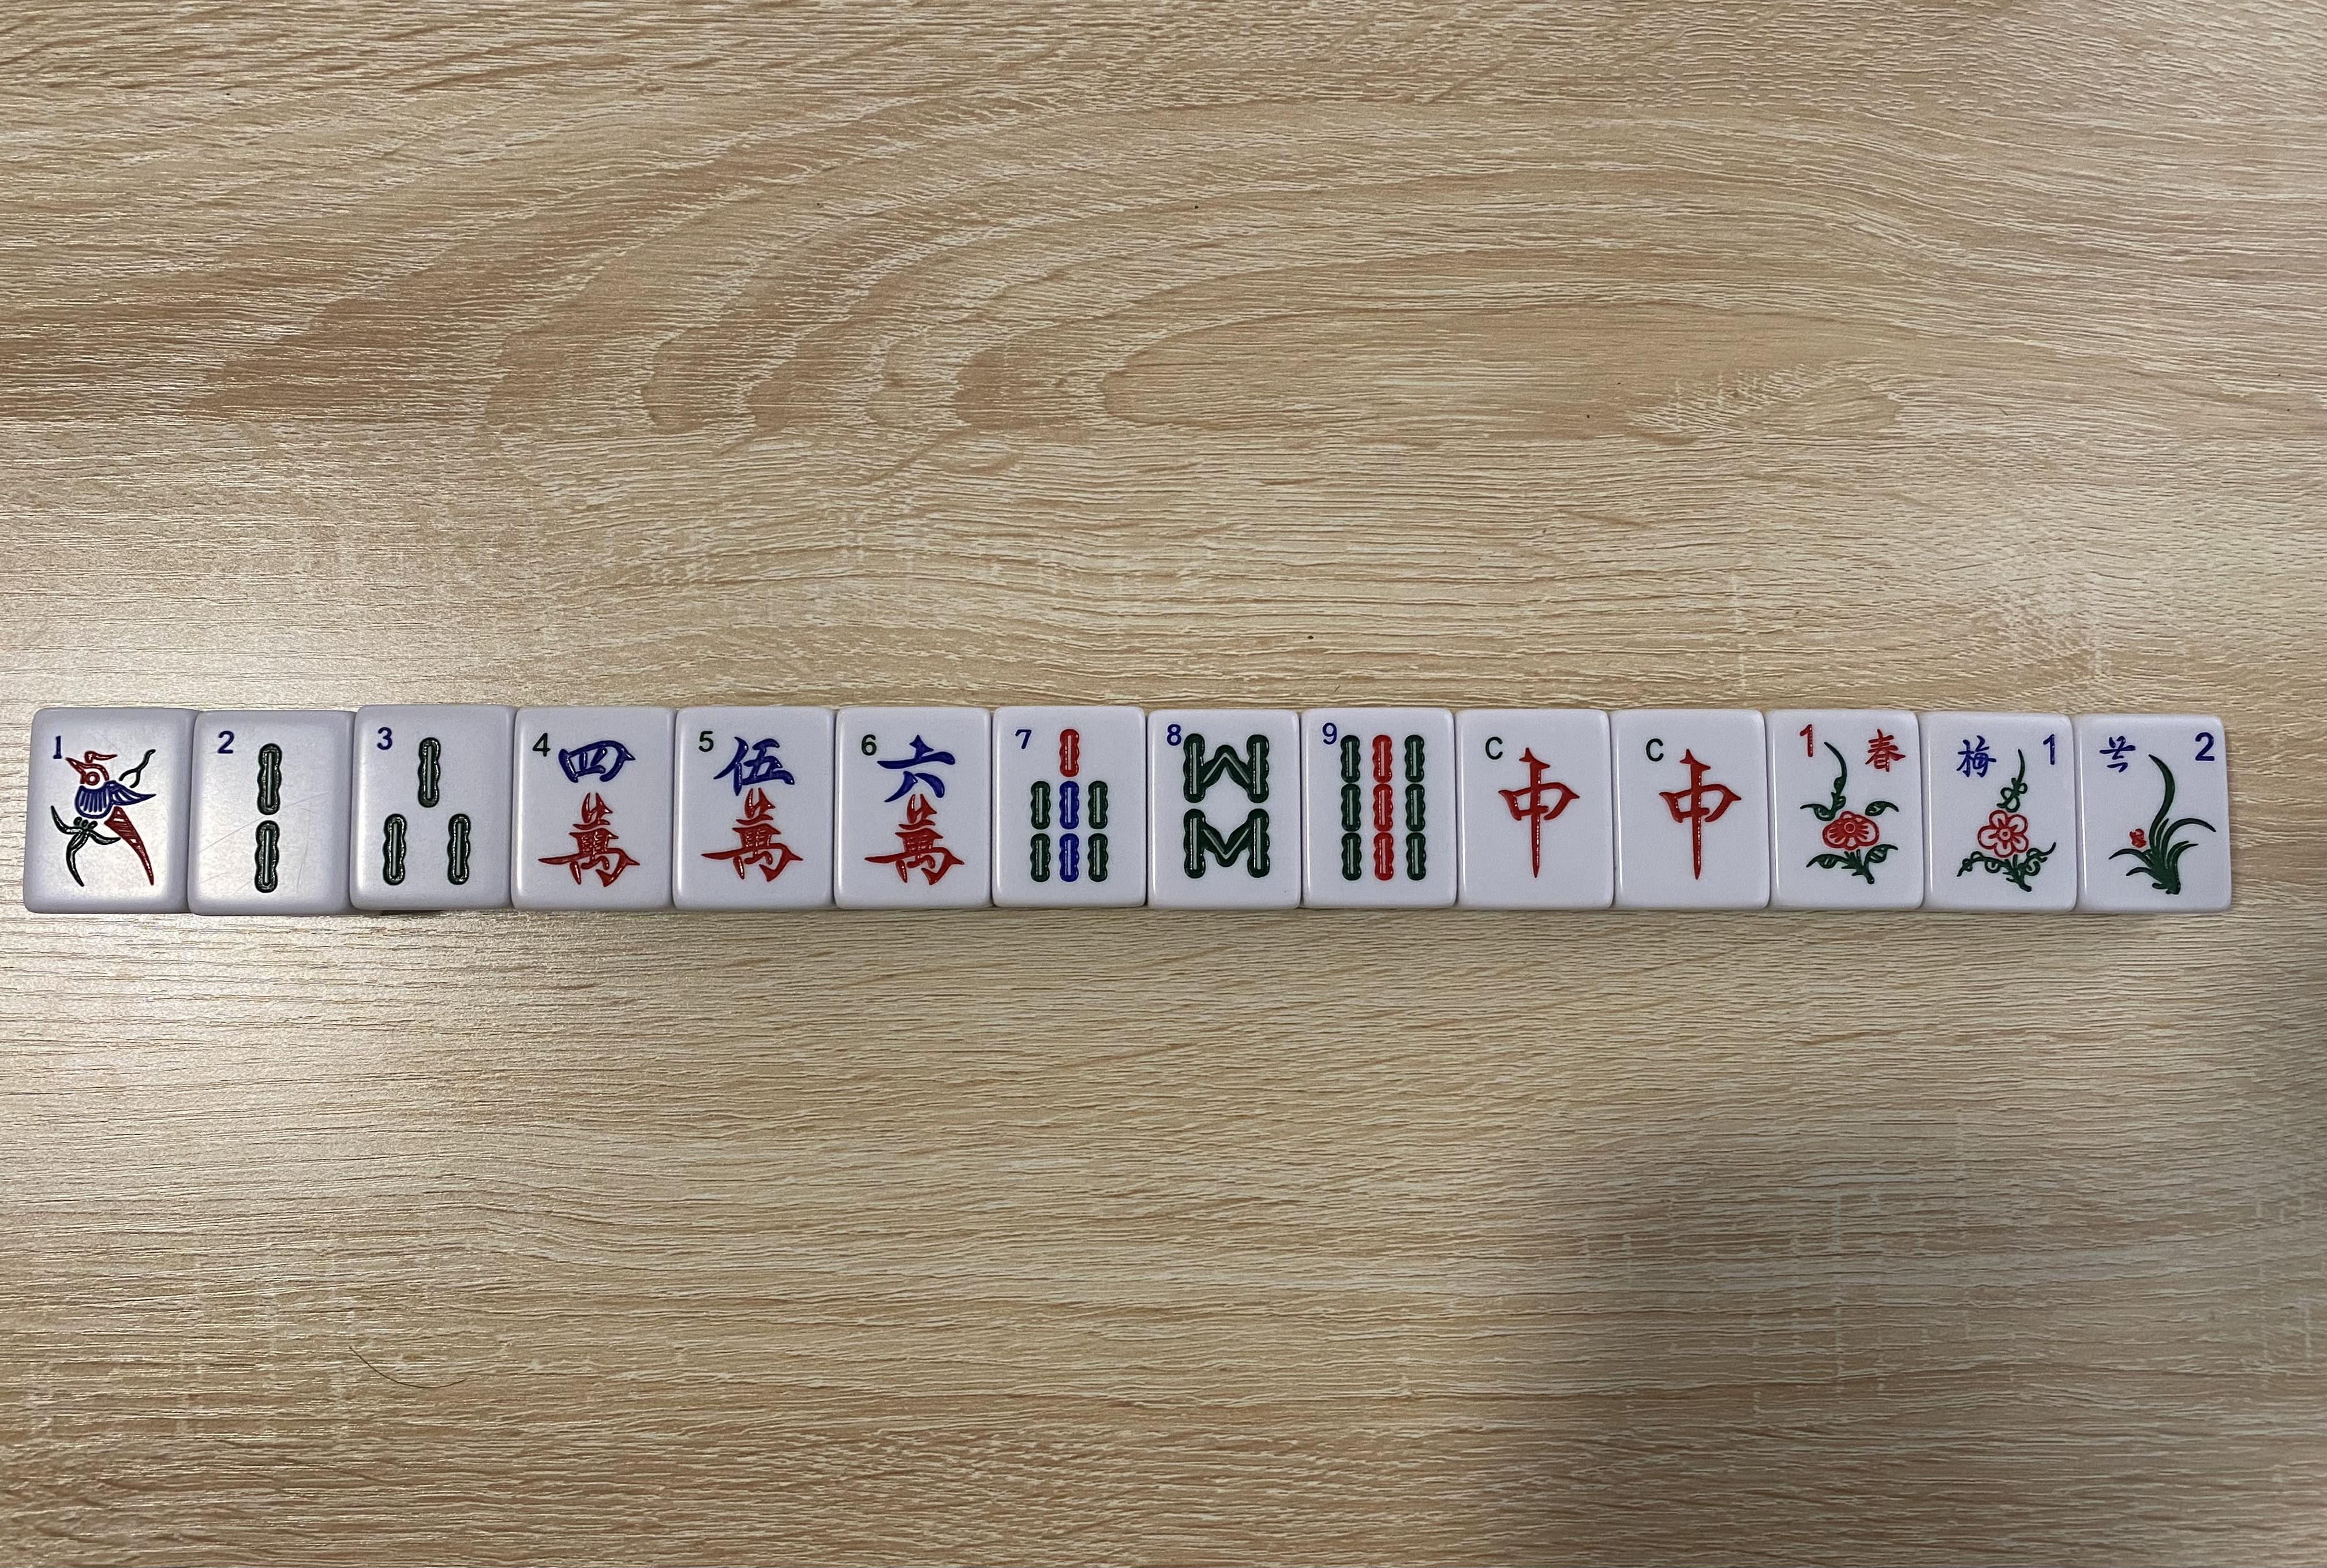bamboo-eight: (1150, 714, 1302, 906)
bamboo-nine: (1303, 709, 1454, 903)
bamboo-one: (28, 705, 184, 912)
bamboo-seven: (996, 710, 1144, 901)
bamboo-three: (359, 709, 502, 905)
bamboo-two: (196, 716, 343, 908)
character-five: (684, 712, 828, 903)
character-four: (518, 710, 670, 906)
character-six: (842, 714, 987, 903)
flower-blue_one: (1925, 716, 2075, 908)
flower-blue_two: (2077, 716, 2229, 906)
flower-red_one: (1767, 712, 1923, 906)
honor-red_dragon: (1615, 710, 1767, 905), (1459, 709, 1611, 903)
